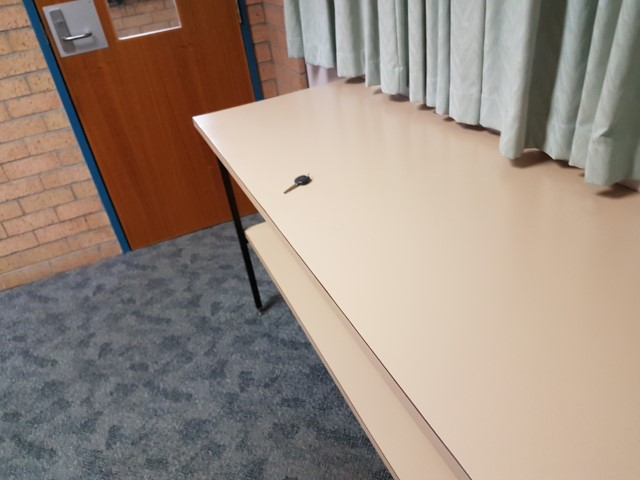key: (283, 174, 311, 194)
